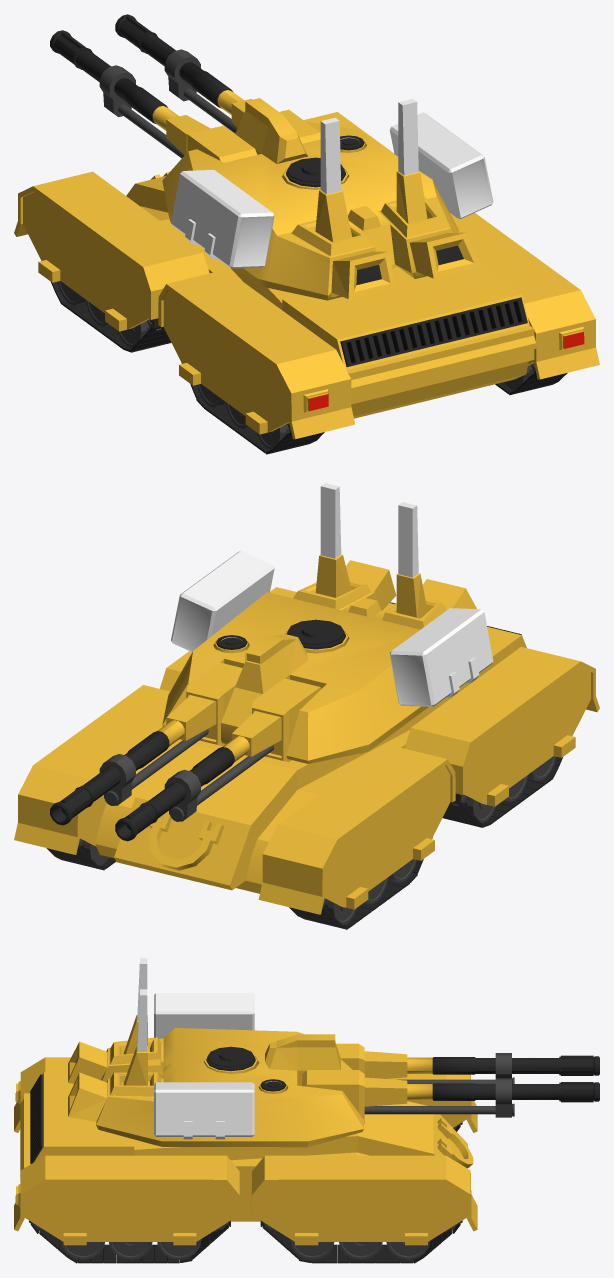
File: 3DMammothTank.fbx
3 views of the same model, one above another, from view 1: azimuth 30°, elevation 25°; view 2: azimuth 150°, elevation 25°; view 3: azimuth 270°, elevation 25° (orthographic). The views are drawn at different scales.
Visible parts, largest first — view 1: Body, Tower, Cannon1, Canoon2; view 2: Body, Tower, Cannon1, Canoon2; view 3: Body, Tower, Canoon2, Cannon1.
Boxes of the visible parts, x1=… form: Body: x1=14, y1=112, x2=599, y2=454; Tower: x1=162, y1=98, x2=493, y2=300; Cannon1: x1=50, y1=30, x2=257, y2=162; Canoon2: x1=115, y1=14, x2=320, y2=143; Body: x1=14, y1=587, x2=599, y2=929; Tower: x1=162, y1=483, x2=493, y2=763; Cannon1: x1=115, y1=678, x2=321, y2=841; Canoon2: x1=50, y1=662, x2=242, y2=825; Body: x1=14, y1=1057, x2=477, y2=1263; Tower: x1=68, y1=958, x2=363, y2=1147; Canoon2: x1=301, y1=1070, x2=599, y2=1123; Cannon1: x1=336, y1=1043, x2=599, y2=1083.
Size of the model in its own units: 131 by 111 by 256.
